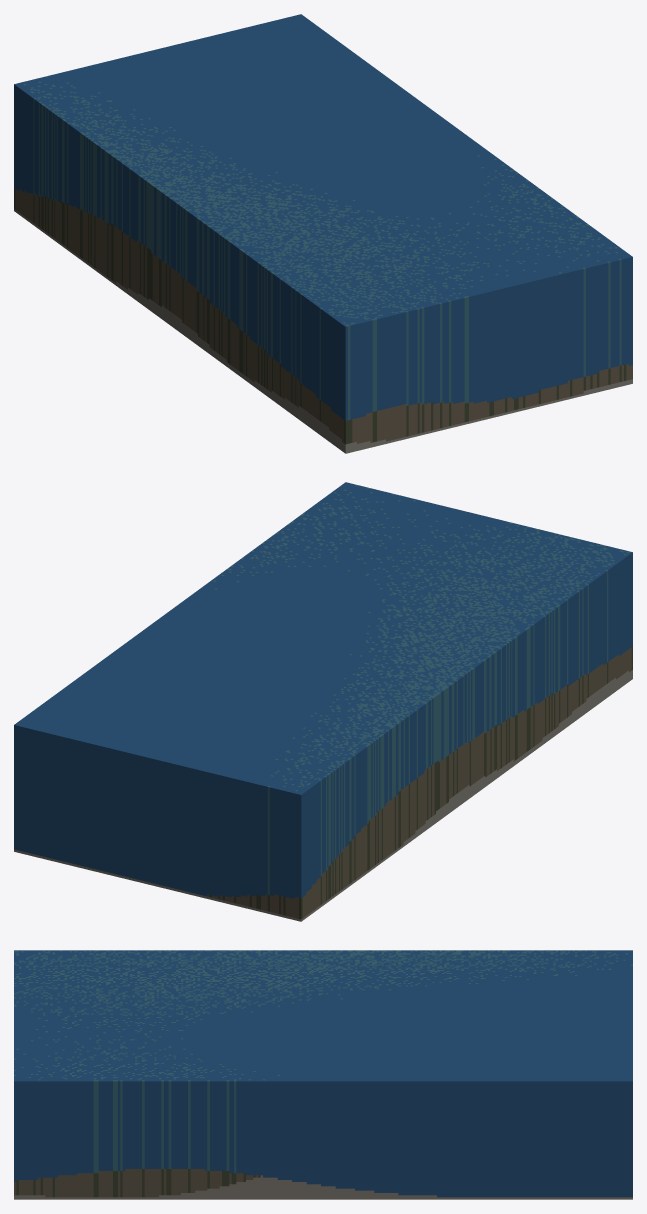
Rendered from Combined Desert(2)-12-water 2.obj.
3 views of the same model, one above another, from view 1: azimuth 30°, elevation 25°; view 2: azimuth 150°, elevation 25°; view 3: azimuth 270°, elevation 25° (orthographic). The views are drawn at different scales.
Visible parts, largest first — view 1: water 2; view 2: water 2; view 3: water 2.
Part boxes in pixels (x1,y1,x2,y2): water 2: (14, 14, 632, 453); water 2: (14, 482, 632, 921); water 2: (14, 950, 632, 1199).
Bounding box in the file's own units: 12.8 × 5.4 × 25.6.
1 material, 1 textured.
